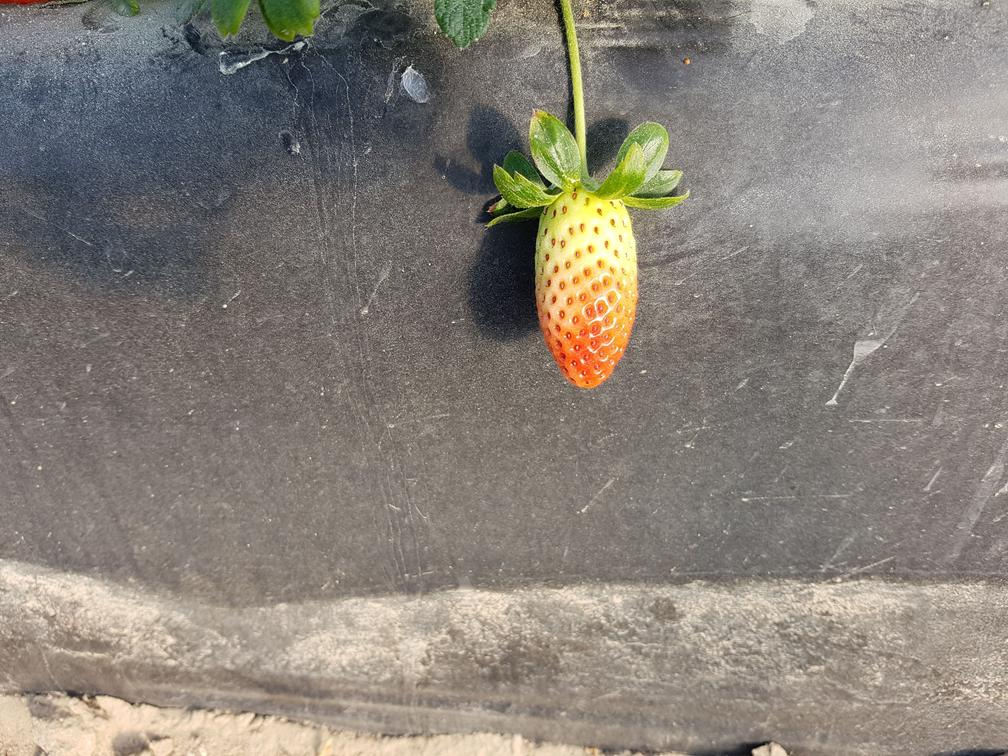Unripe: (534, 187, 647, 401)
